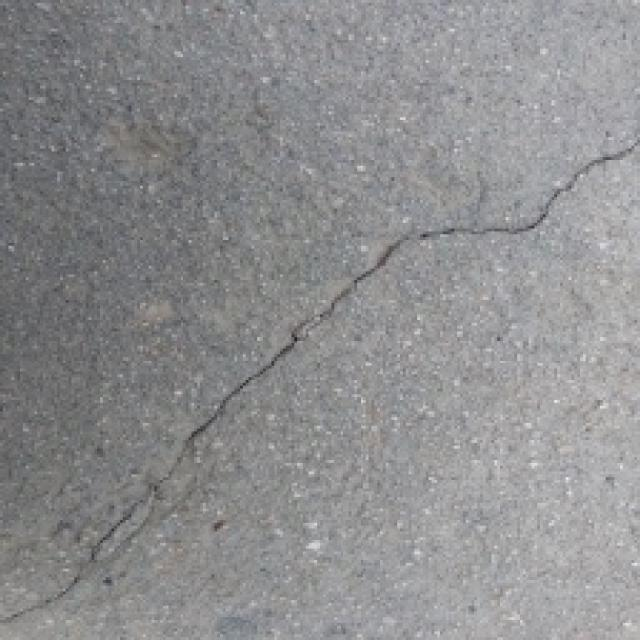crack: (20, 132, 630, 632)
